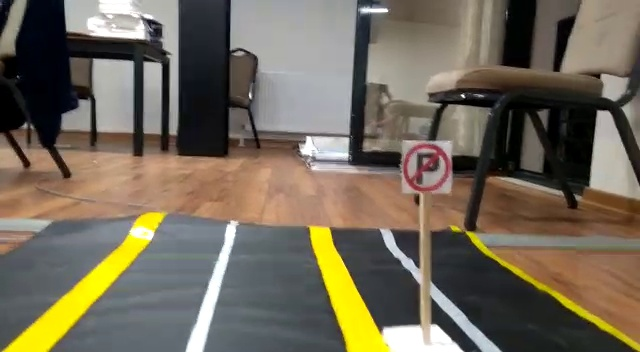park_yapilmaz: (402, 140, 452, 192)
